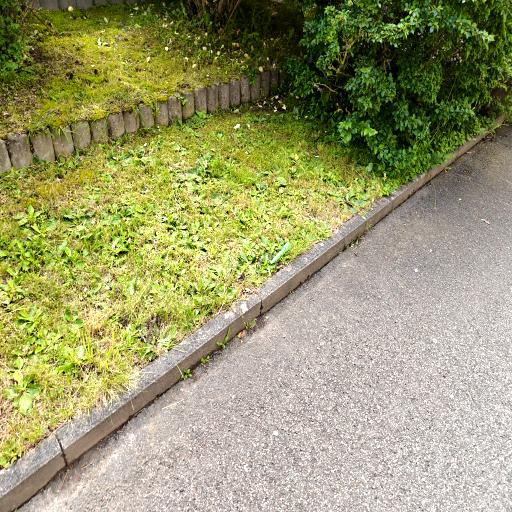Probe-Detection: (271, 242, 290, 264)
